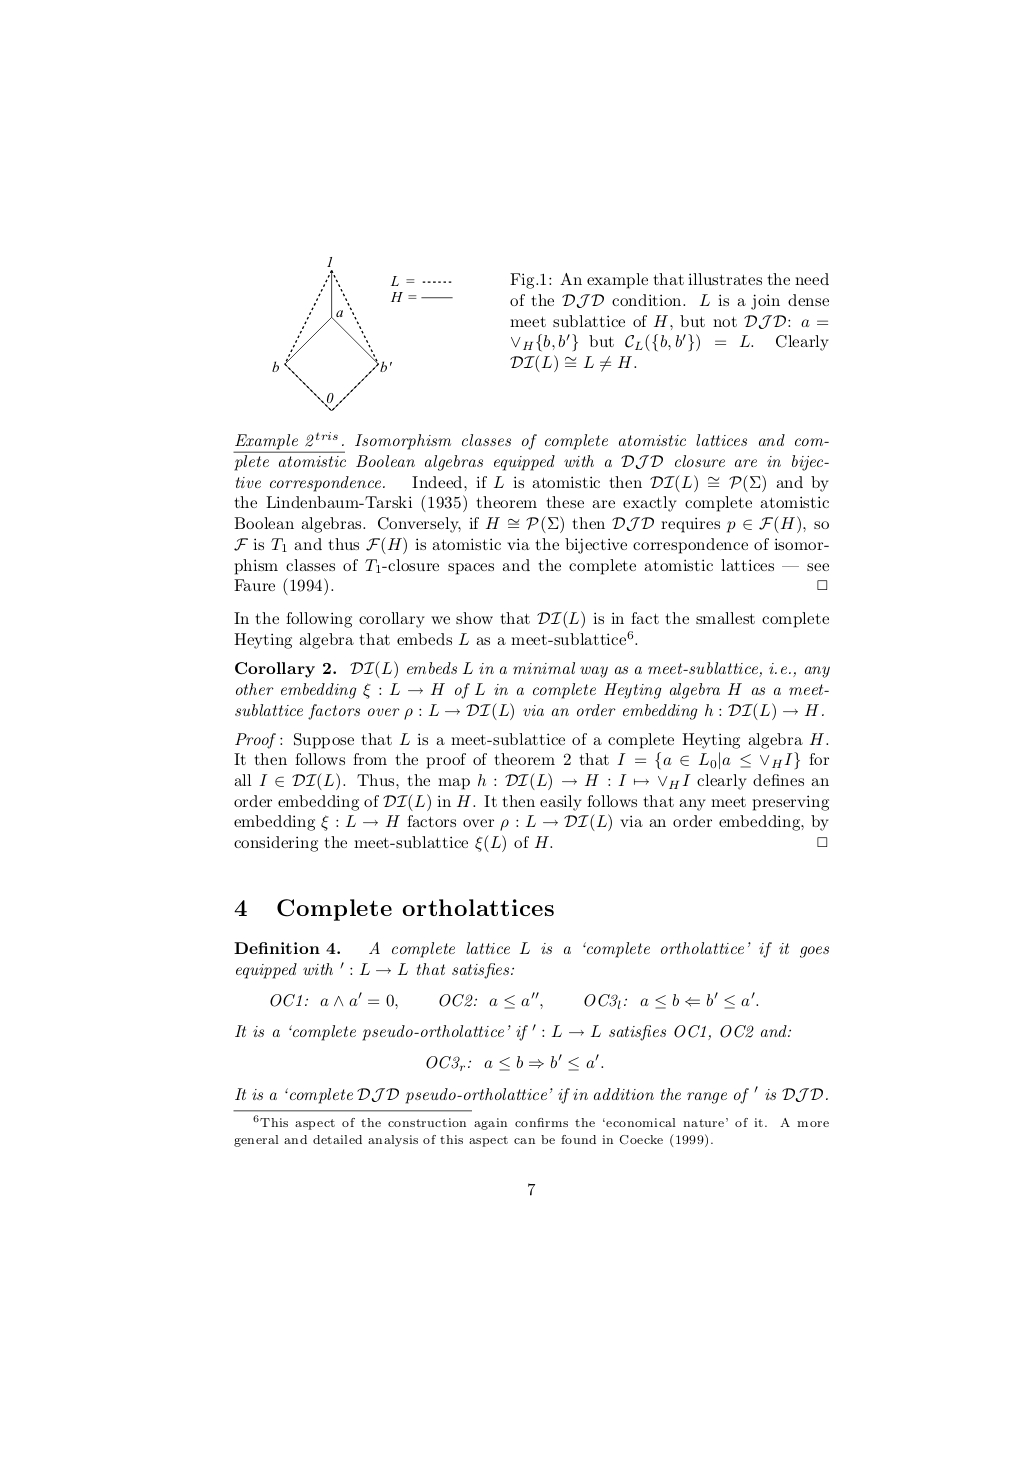figure: (272, 257, 452, 410)
formula: (270, 991, 758, 1009), (426, 1053, 603, 1071)
